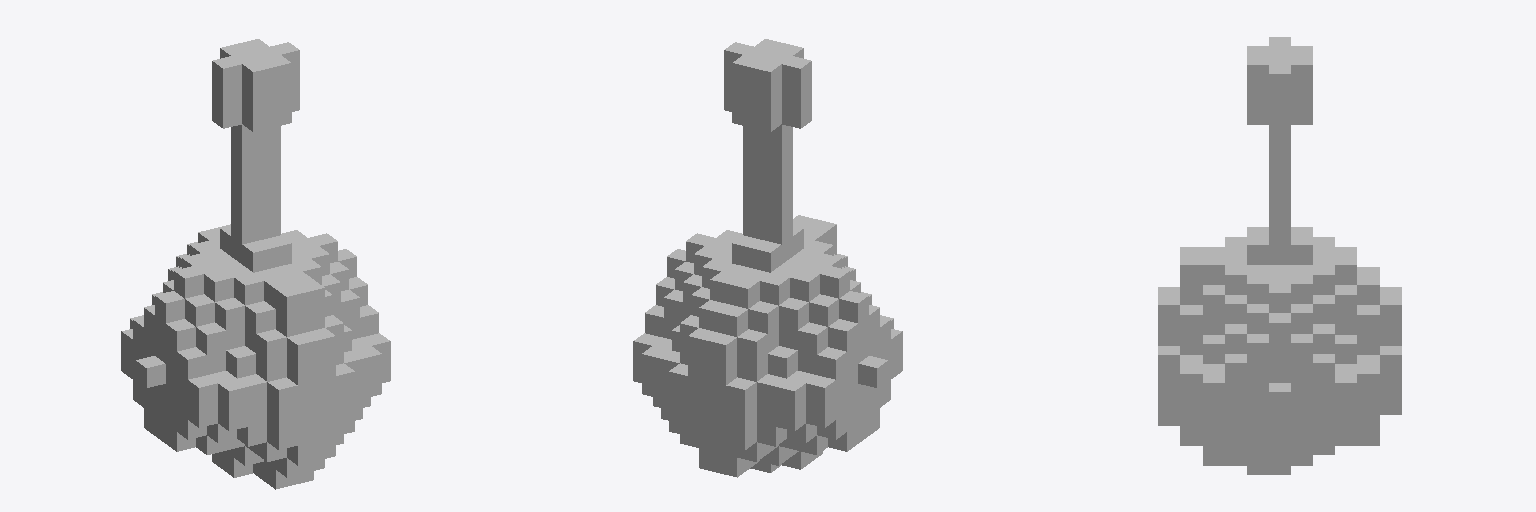
Rendered from VoidEdge V2-2.obj.
3 renders of one model, left to right at view 1: azimuth 30°, elevation 25°; view 2: azimuth 150°, elevation 25°; view 3: azimuth 270°, elevation 25°, orthographic.
Parts seen in each view (by area): view 1: object 1; view 2: object 1; view 3: object 1.
Part boxes in pixels (bbox=[...]): object 1: bbox=[121, 39, 390, 489]; object 1: bbox=[633, 39, 902, 477]; object 1: bbox=[1158, 37, 1401, 474].
Size of the model in its own units: 1.2 by 2 by 1.1.